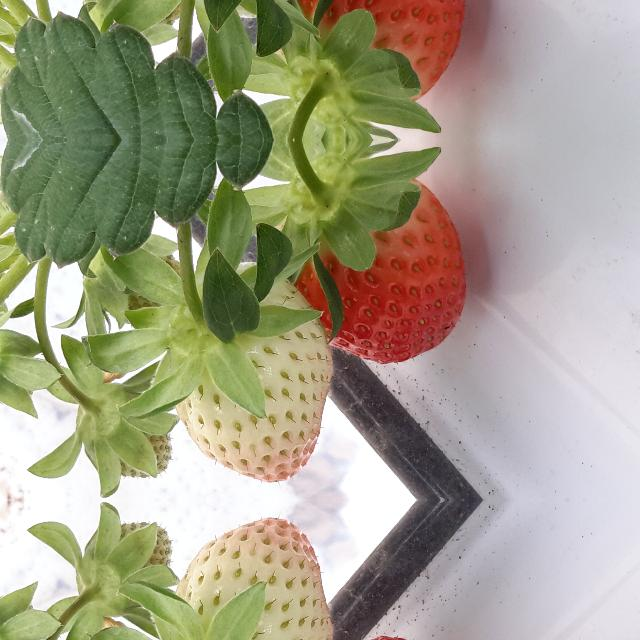Health_100: (293, 178, 465, 364), (293, 0, 465, 102)
Health_50: (170, 271, 334, 483), (169, 517, 334, 640)
